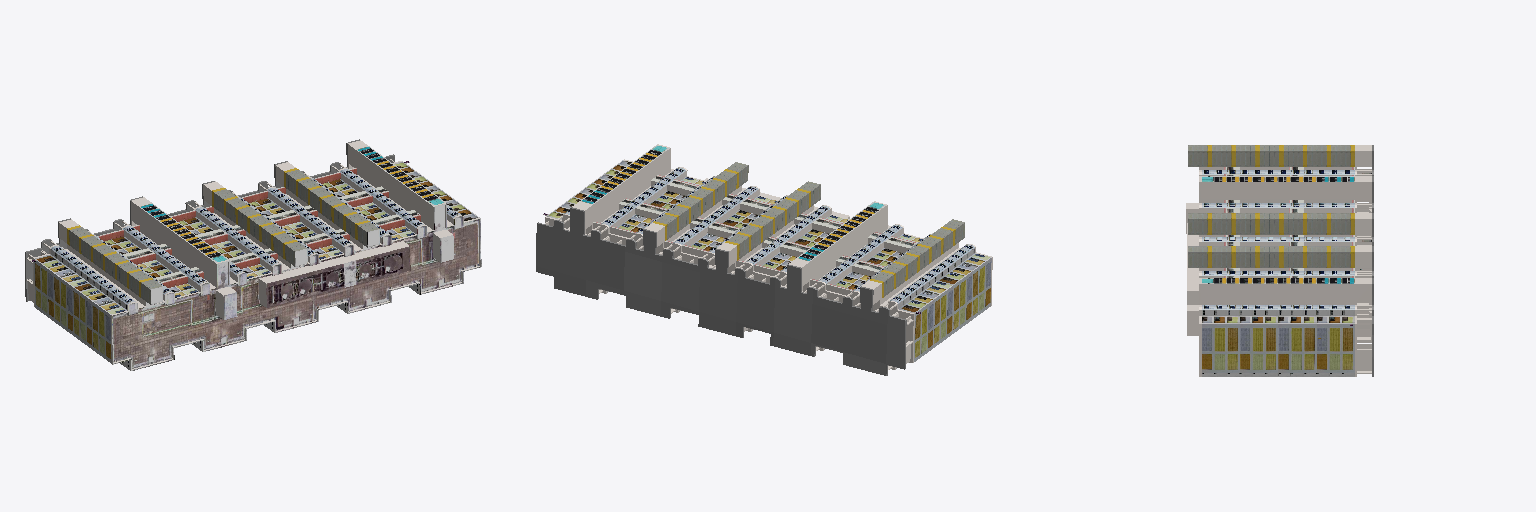
The picture shows the model from 3 angles: view 1: azimuth 30°, elevation 25°; view 2: azimuth 150°, elevation 25°; view 3: azimuth 270°, elevation 25°; orthographic projection.
Parts seen in each view (by area): view 1: polygon.798; view 2: polygon.798; view 3: polygon.798.
Boxes of the visible parts, box(x1,y1,x2,y2) form: polygon.798: box(25, 139, 481, 370); polygon.798: box(536, 144, 992, 375); polygon.798: box(1186, 145, 1373, 376).
Size of the model in its own units: 93.76 by 21.66 by 40.46.
Materials: 1 (1 with a texture image).